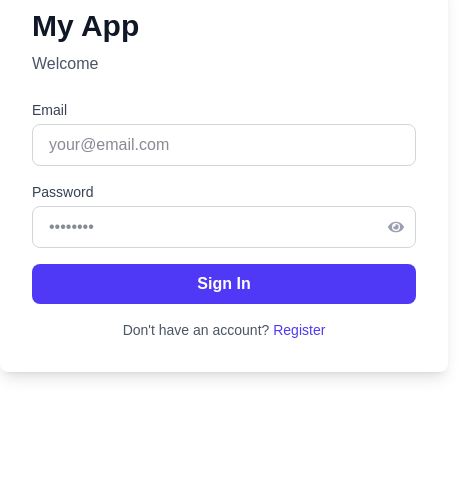
it: LoginForm › switches back to sign in when Sign In link is clicked
Step 1. Click the button "Register" → (299, 330), box [273, 320, 325, 340]
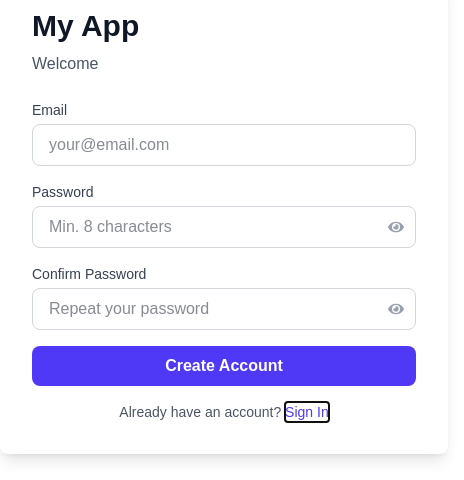
Step 2. Click the button "Sign In" → (307, 412), box [285, 402, 329, 422]
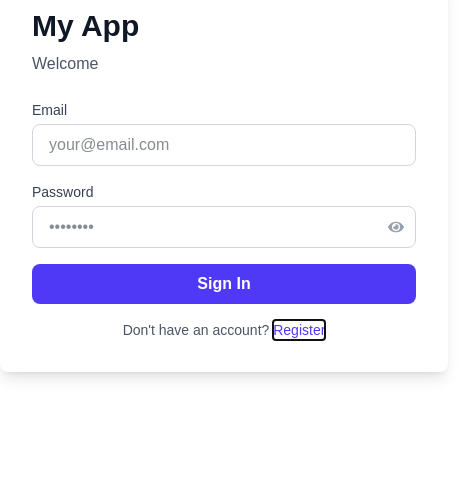
Check: the button "Sign In" is shown, box [32, 264, 416, 304]
